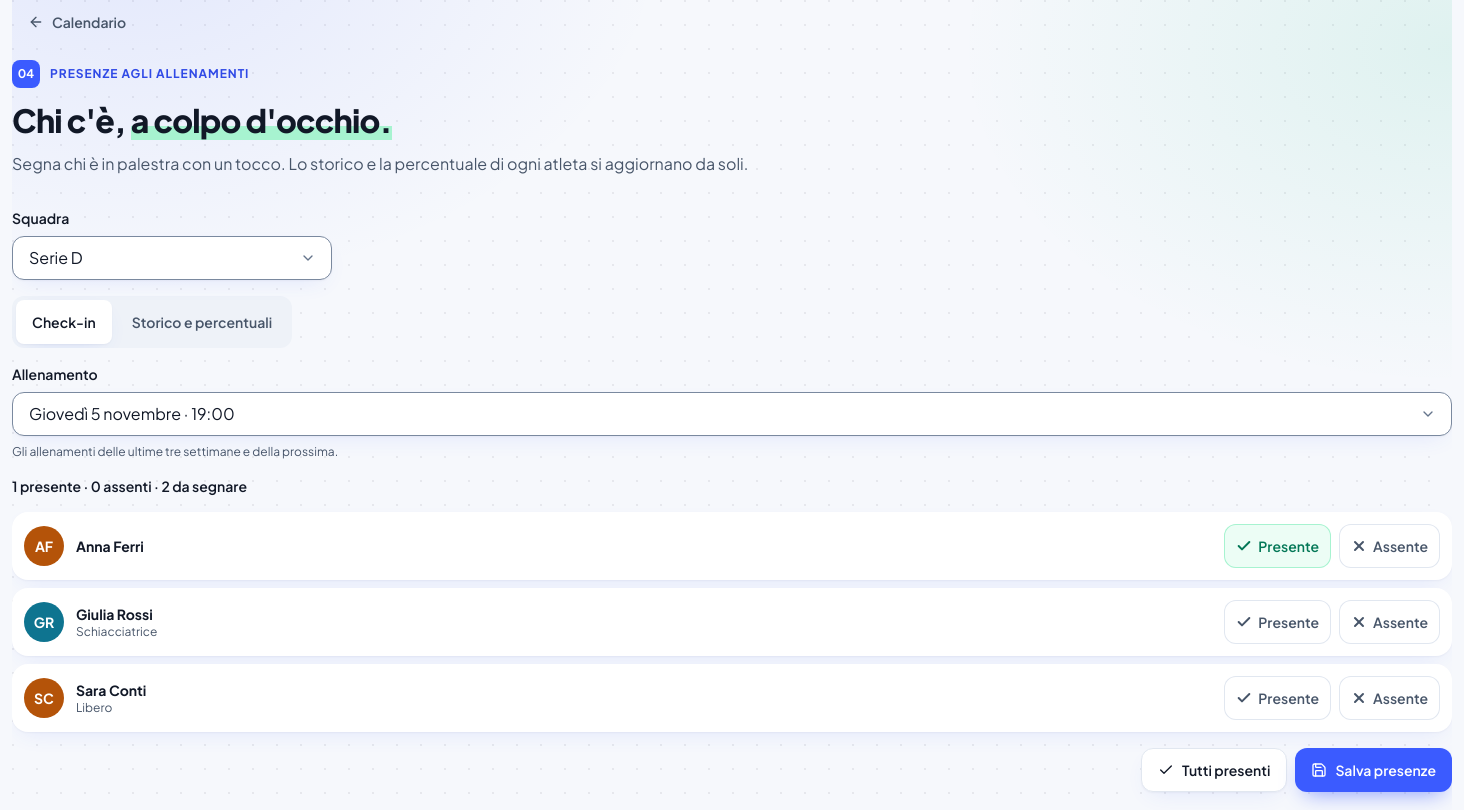
Test: PresenzePage check-in › marks everybody present with one tap
The width and height of the screenshot is (1464, 810).
Click the button "Tutti presenti" at (1214, 770), box top-left (1141, 748), bottom-right (1287, 792)
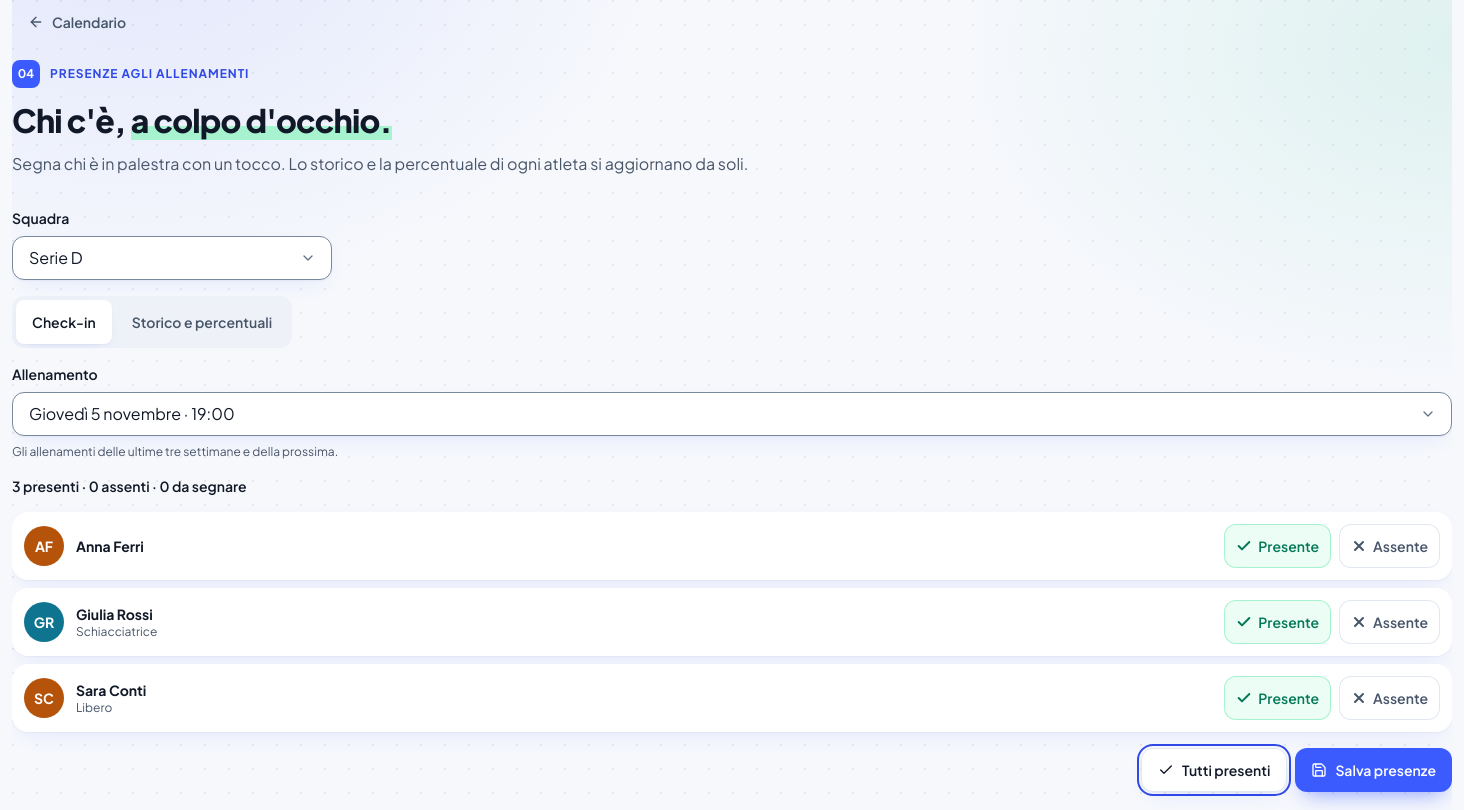
Check: the text "3 presenti · 0 assenti · 0 da segnare" is shown, box top-left (12, 477), bottom-right (247, 495)
Click the button "Salva presenze" at (1374, 770), box top-left (1295, 748), bottom-right (1452, 792)
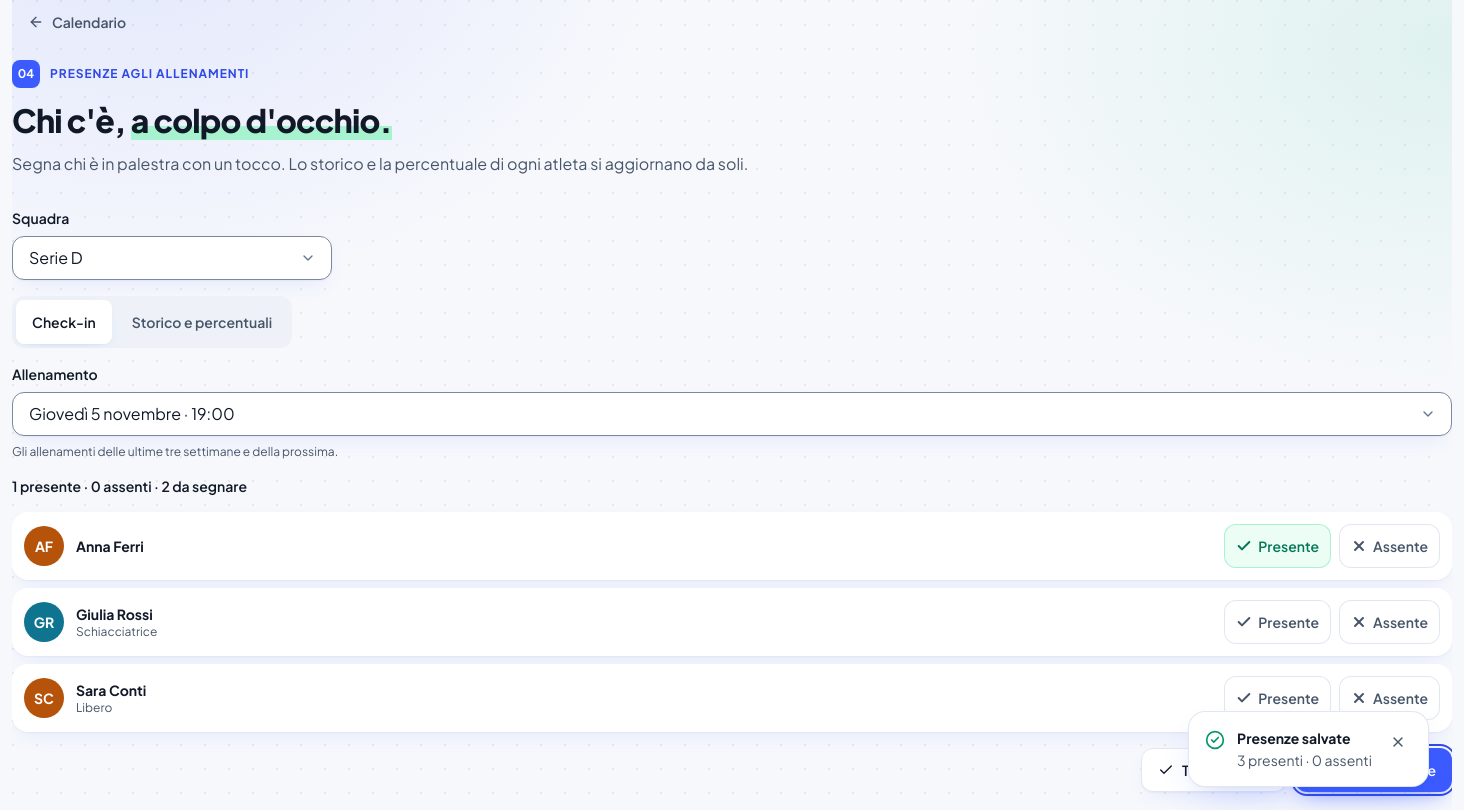
Check: the text "Presenze salvate" is shown, box top-left (1237, 729), bottom-right (1351, 747)
